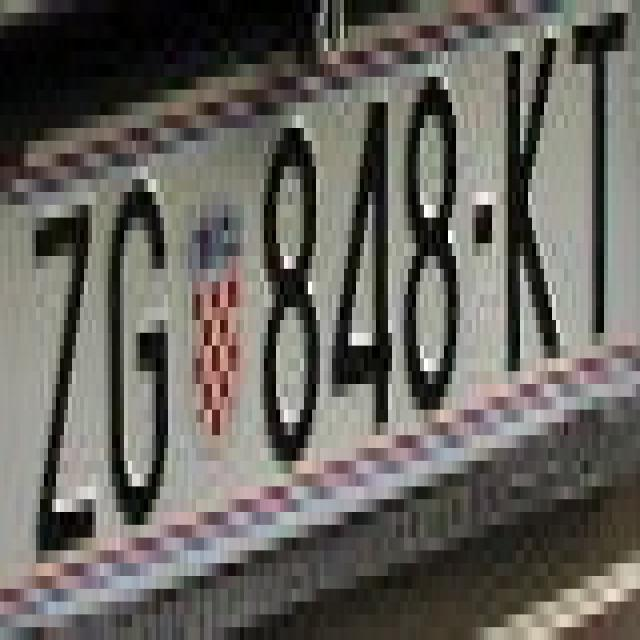4: (324, 77, 396, 435)
8: (404, 90, 468, 422), (264, 128, 320, 461)
G: (104, 179, 172, 538)
K: (496, 38, 568, 384)
T: (568, 12, 632, 346)
Z: (20, 192, 104, 563)
